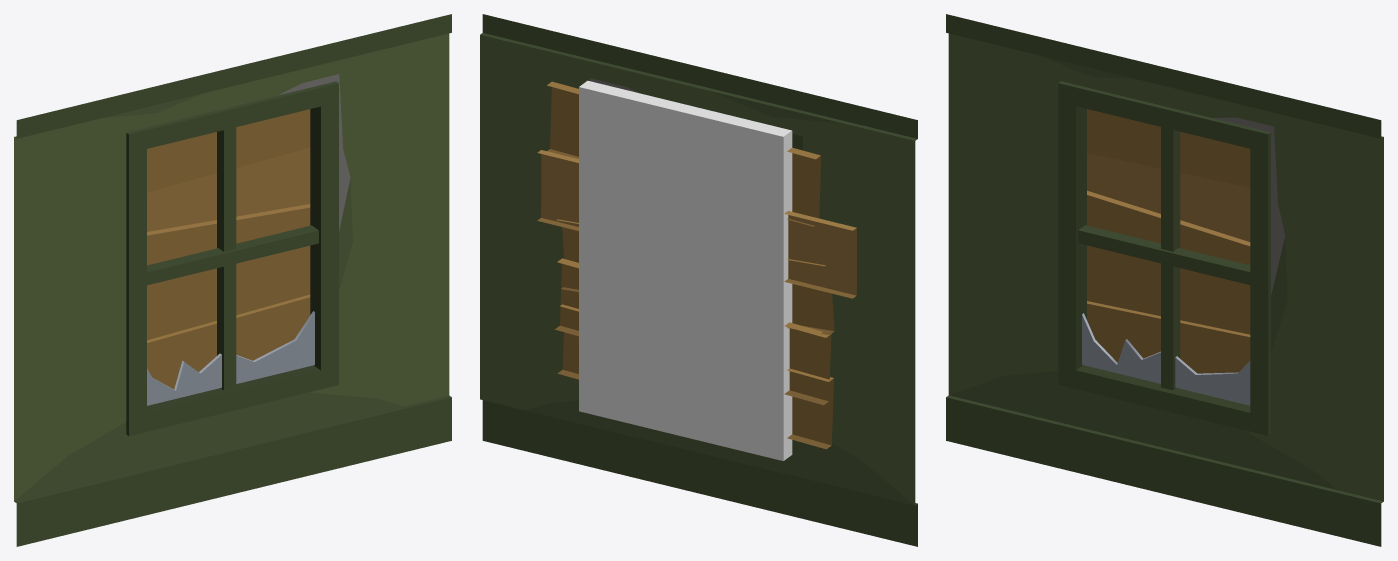
File: AI_Env_Wall_Green_Window_01.fbx
The picture shows the model from 3 angles, left to right: view 1: azimuth 30°, elevation 25°; view 2: azimuth 150°, elevation 25°; view 3: azimuth 330°, elevation 25°; orthographic projection.
Parts seen in each view (by area): view 1: AI_Env_Wall_Green_Window_01; view 2: AI_Env_Wall_Green_Window_01; view 3: AI_Env_Wall_Green_Window_01.
Part boxes in pixels (x1,y1,x2,y2): AI_Env_Wall_Green_Window_01: [14, 14, 451, 546]; AI_Env_Wall_Green_Window_01: [480, 14, 917, 546]; AI_Env_Wall_Green_Window_01: [946, 14, 1383, 546].
Size of the model in its own units: 5 by 4.69 by 0.3888.
